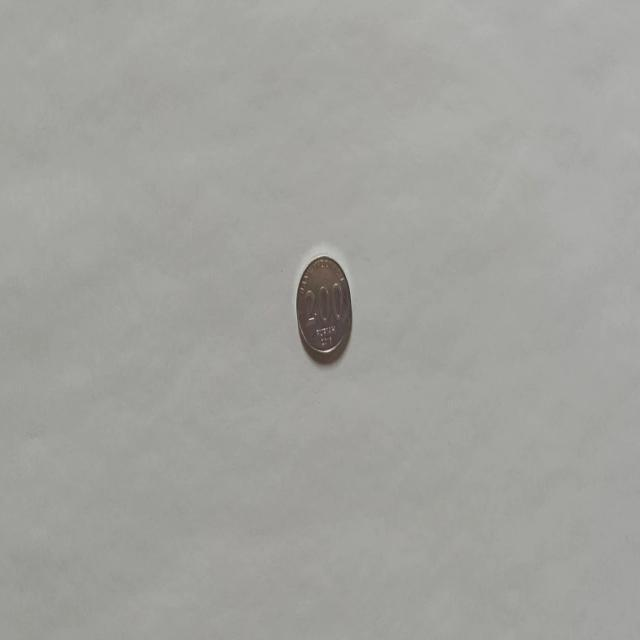dua ratus rupiah: (295, 252, 353, 360)
